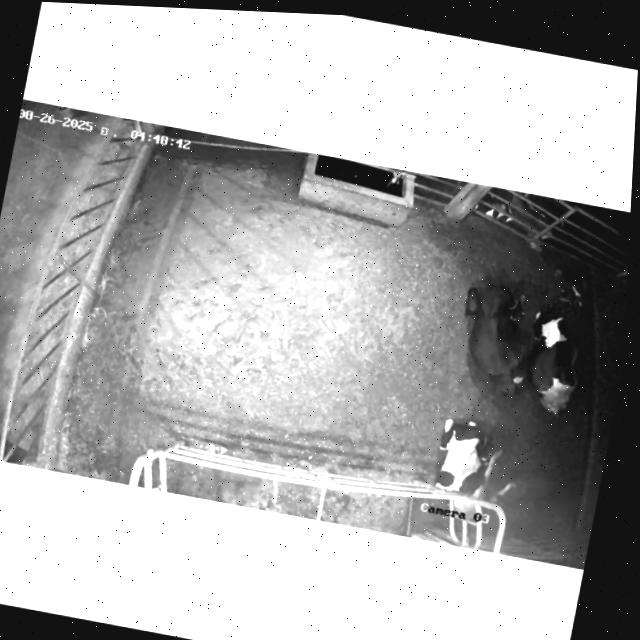lay: (519, 262, 616, 434), (440, 268, 544, 407), (421, 405, 530, 523)
